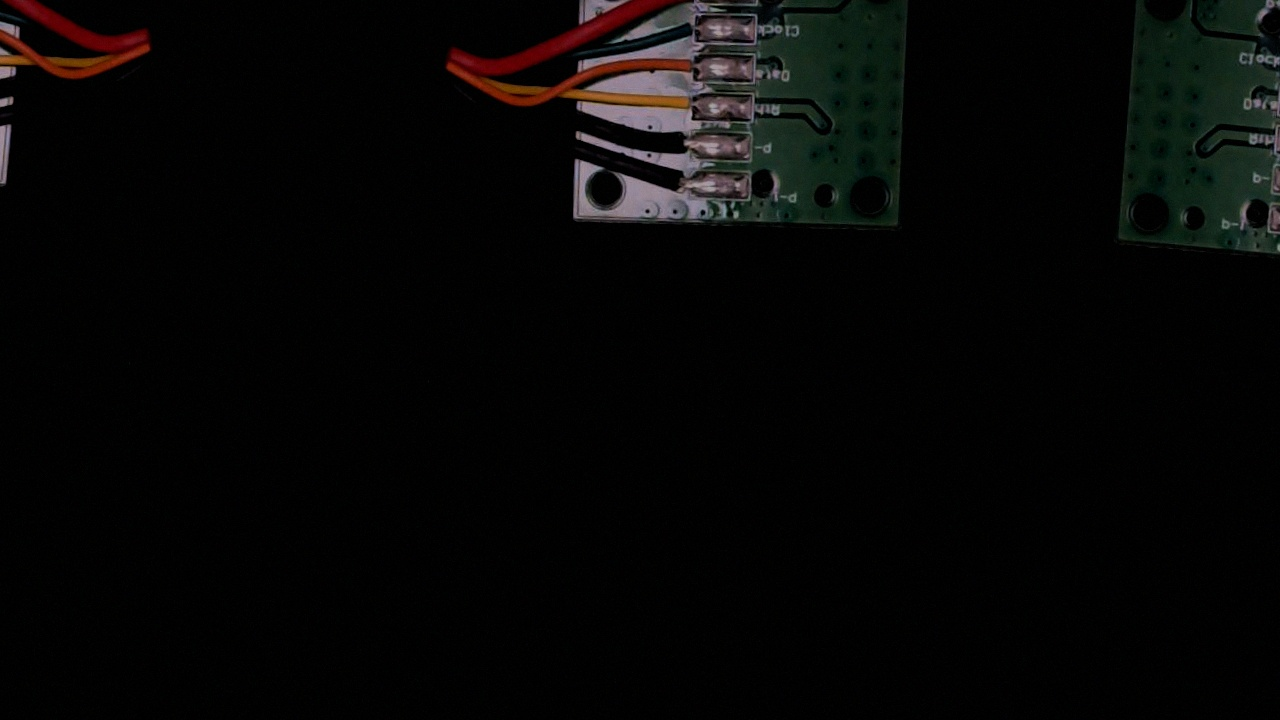Black: (640, 126, 710, 161)
Black1: (640, 164, 709, 201)
Green: (651, 9, 715, 47)
Orange: (644, 49, 718, 85)
Red: (645, 0, 717, 6)
Yellow: (639, 85, 715, 123)
